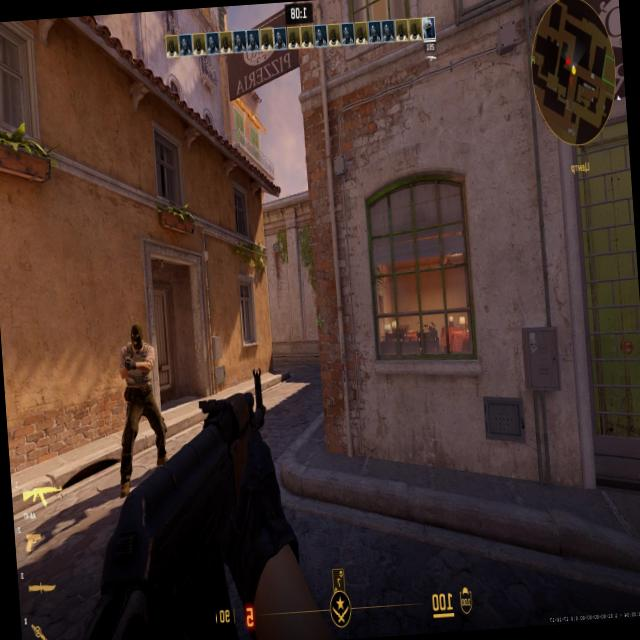T: (124, 323, 151, 426)
T_heat: (134, 333, 142, 352)
